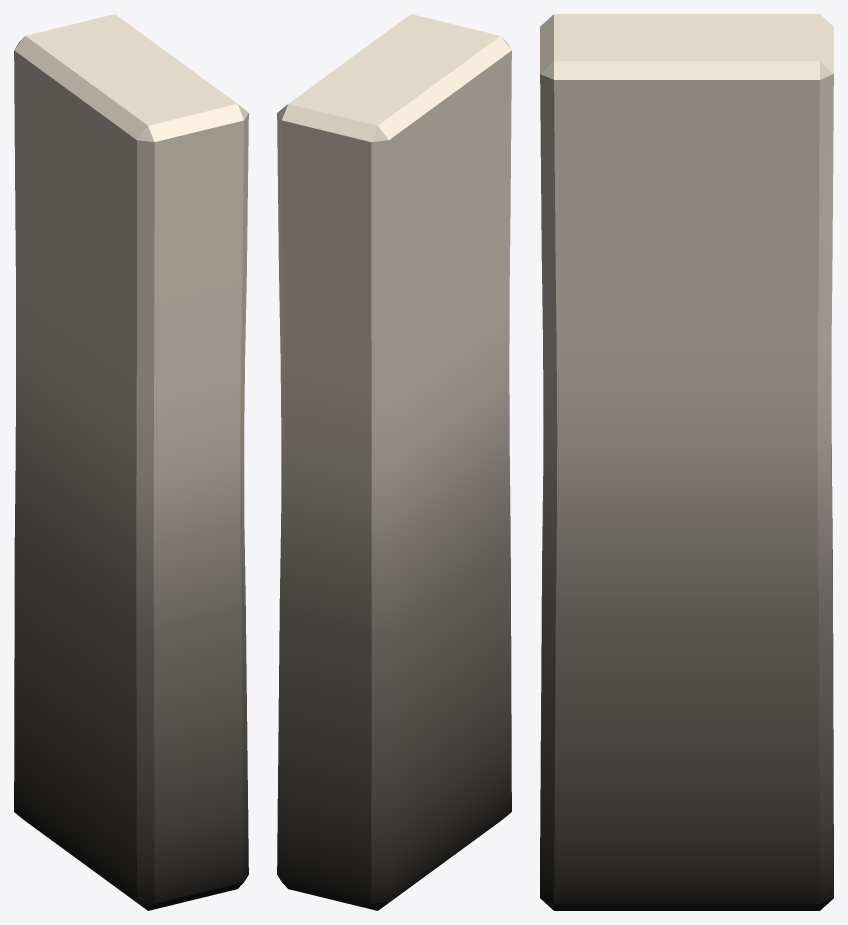
File: SM_VKI_Post_Wattle_Mid_Cut.fbx
3 renders of one model, left to right at view 1: azimuth 30°, elevation 25°; view 2: azimuth 150°, elevation 25°; view 3: azimuth 270°, elevation 25°, orthographic. The views are drawn at different scales.
Visible parts, largest first — view 1: SM_VKI_Post_Wattle_Mid_Cut.001; view 2: SM_VKI_Post_Wattle_Mid_Cut.001; view 3: SM_VKI_Post_Wattle_Mid_Cut.001.
Boxes of the visible parts, x1,y1,x2,y2 form: SM_VKI_Post_Wattle_Mid_Cut.001: (14,14,248,910); SM_VKI_Post_Wattle_Mid_Cut.001: (277,14,511,910); SM_VKI_Post_Wattle_Mid_Cut.001: (540,14,833,910).
Bounding box in the file's own units: 0.2 × 1.34 × 0.42.
